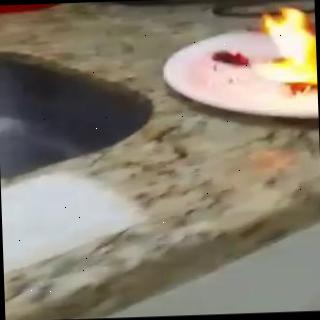fire: (257, 5, 318, 100)
